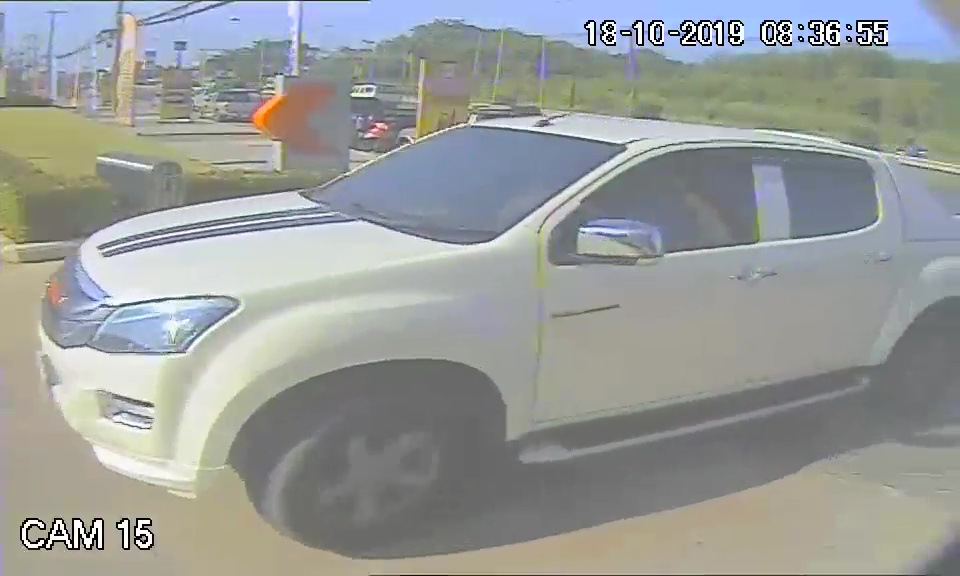pickup: (33, 110, 935, 503)
